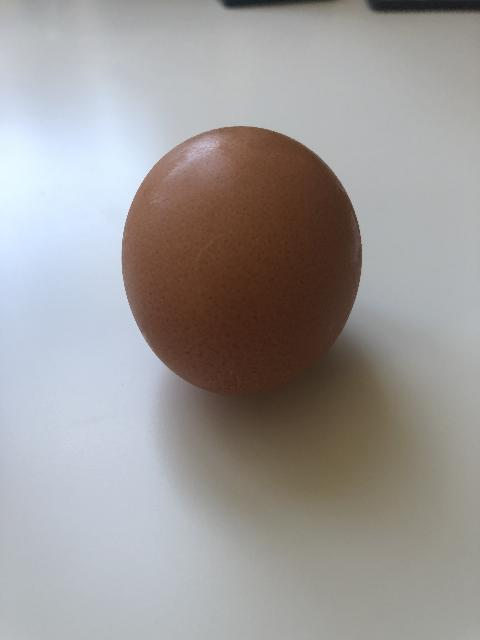Sano: (120, 124, 363, 397)
